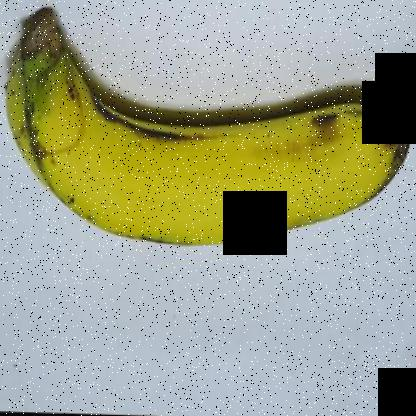freshripe: (1, 7, 415, 266)
